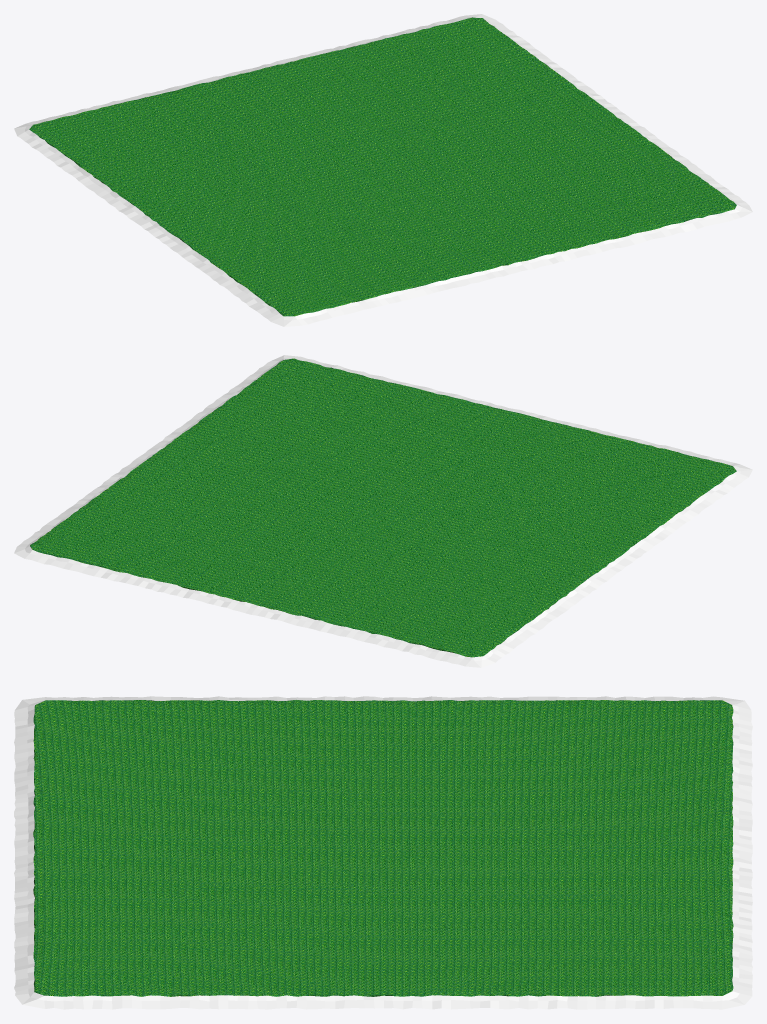
Rendered from sulimo_terrain.fbx.
3 renders of one model, top to bottom at view 1: azimuth 30°, elevation 25°; view 2: azimuth 150°, elevation 25°; view 3: azimuth 270°, elevation 25°, orthographic. The views are drawn at different scales.
Parts seen in each view (by area): view 1: beta island V1.002; view 2: beta island V1.002; view 3: beta island V1.002.
Part boxes in pixels (box(x1,y1,x2,y2)): beta island V1.002: box(14, 14, 752, 326); beta island V1.002: box(14, 355, 752, 667); beta island V1.002: box(14, 696, 752, 1009).
Bounding box in the file's own units: 30531 × 301 × 30530.
2 materials, 1 textured.
